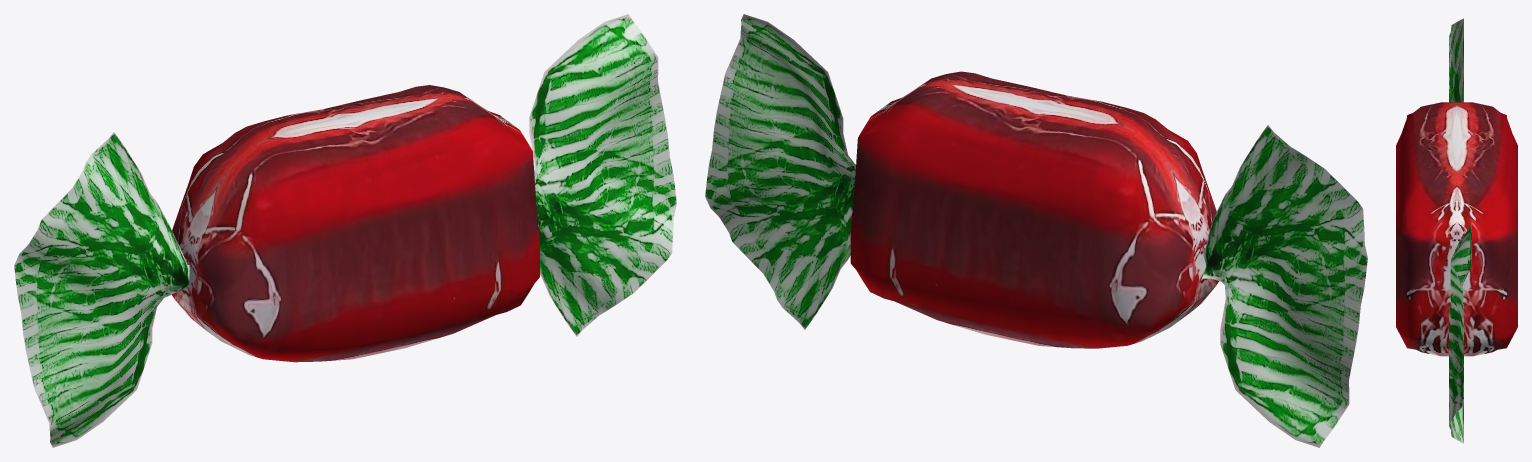
The model's file is Candy.fbx.
The picture shows the model from 3 angles, left to right: view 1: azimuth 30°, elevation 25°; view 2: azimuth 150°, elevation 25°; view 3: azimuth 270°, elevation 25°; orthographic projection. The views are drawn at different scales.
Parts seen in each view (by area): view 1: Body, Arm1, Arm; view 2: Body, Arm, Arm1; view 3: Body, Arm1, Arm.
Part boxes in pixels (<box>): Body: <box>172,85,539,362</box>; Arm1: <box>529,14,676,336</box>; Arm: <box>14,132,189,447</box>; Body: <box>850,71,1218,348</box>; Arm: <box>1202,125,1367,447</box>; Arm1: <box>705,14,855,329</box>; Body: <box>1396,102,1517,356</box>; Arm1: <box>1449,219,1471,443</box>; Arm: <box>1449,18,1463,102</box>.
Size of the model in its own units: 2.08 by 0.9563 by 0.4165.
2 materials, 2 textured.
